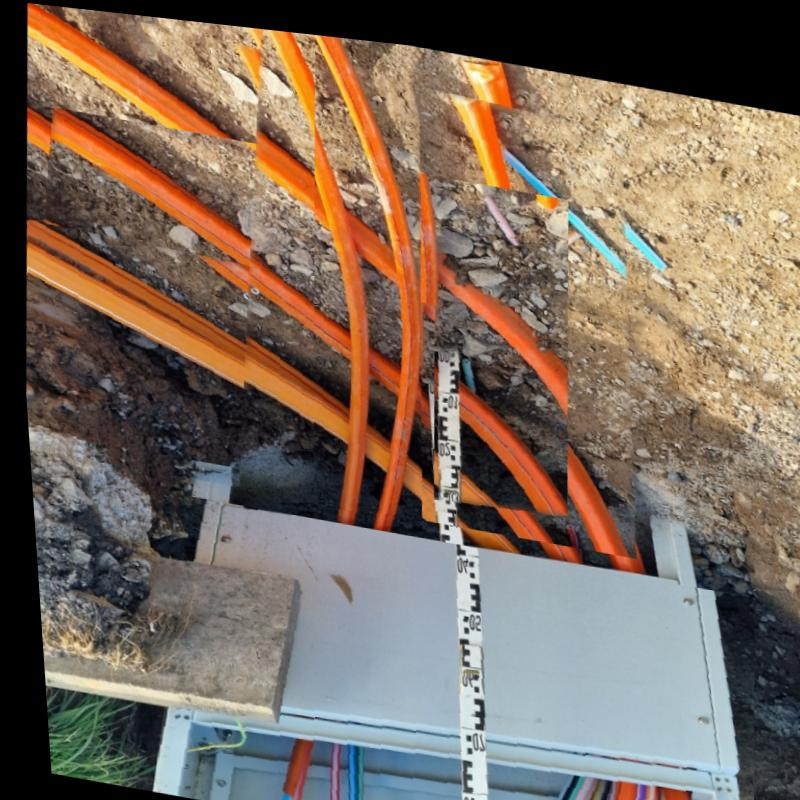NT-Gehause: (145, 495, 731, 800)
Orang-Speednetrohrchen: (27, 2, 622, 543), (44, 105, 560, 505), (25, 219, 427, 494), (262, 23, 365, 511), (316, 28, 417, 506)
